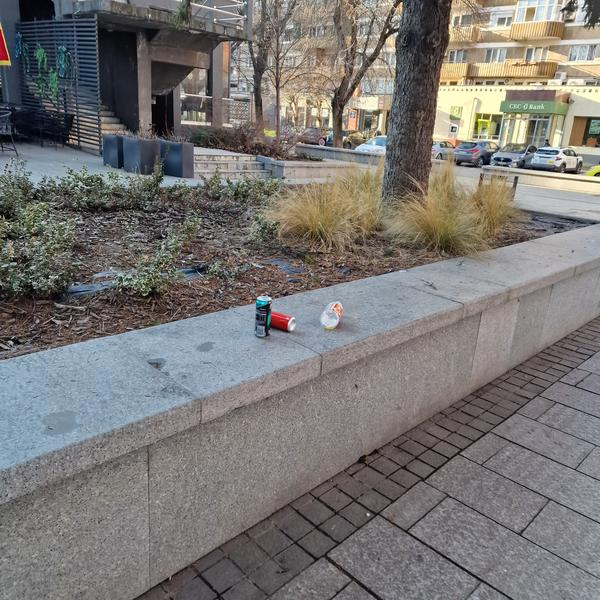can: (254, 296, 271, 339), (267, 311, 298, 333)
plastic_bottle: (316, 297, 348, 333)
